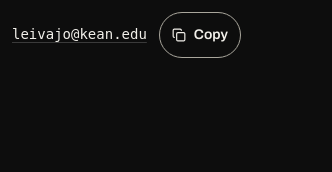
CopyEmail › reports a failed copy
Click the button with aria-label "copy email address" at coordinates (200, 35), box 159,12 -> 241,58
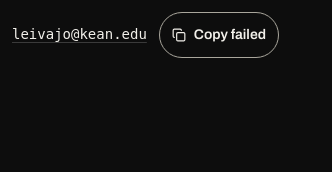
Expected: the text "Copy failed" is shown, 194,25 -> 266,45
